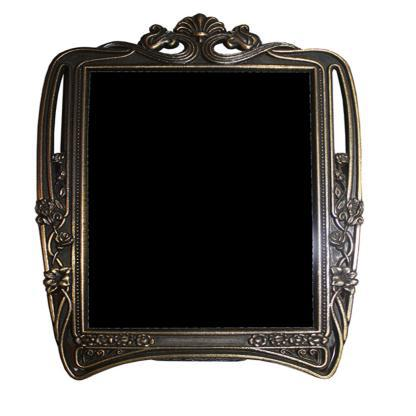picture frame: (99, 43, 346, 364)
